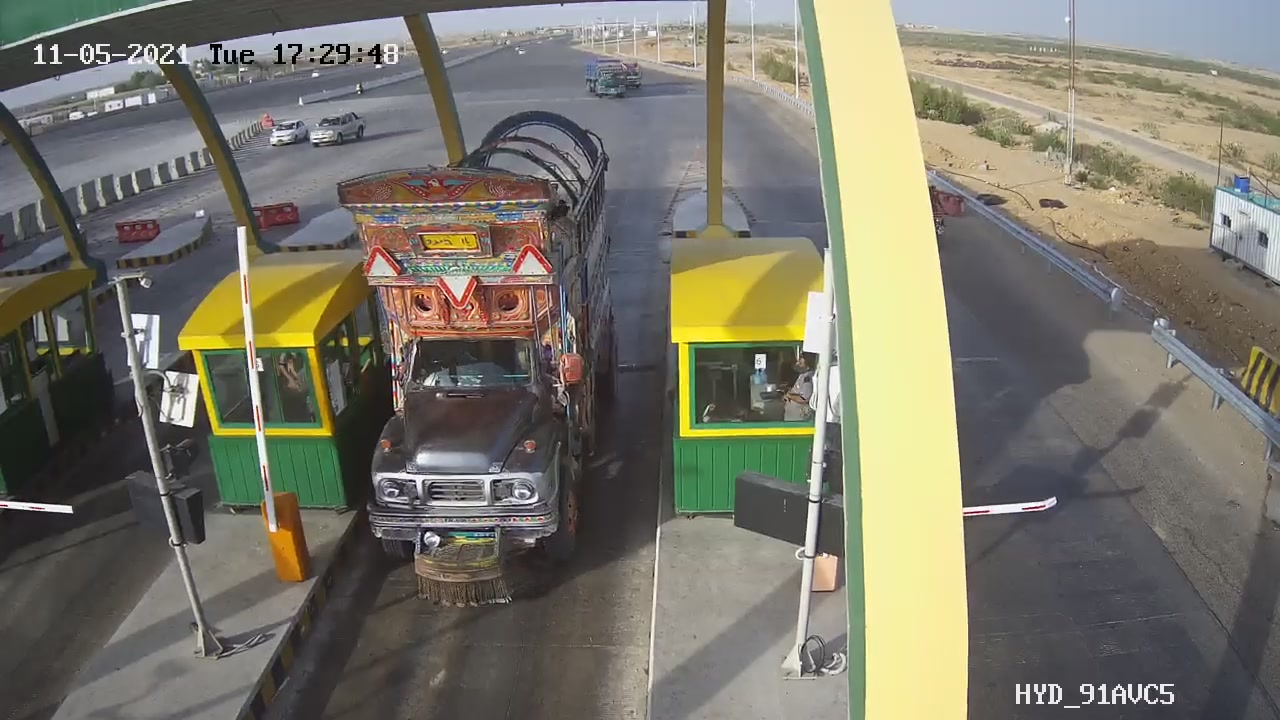F5: (320, 98, 653, 627)
